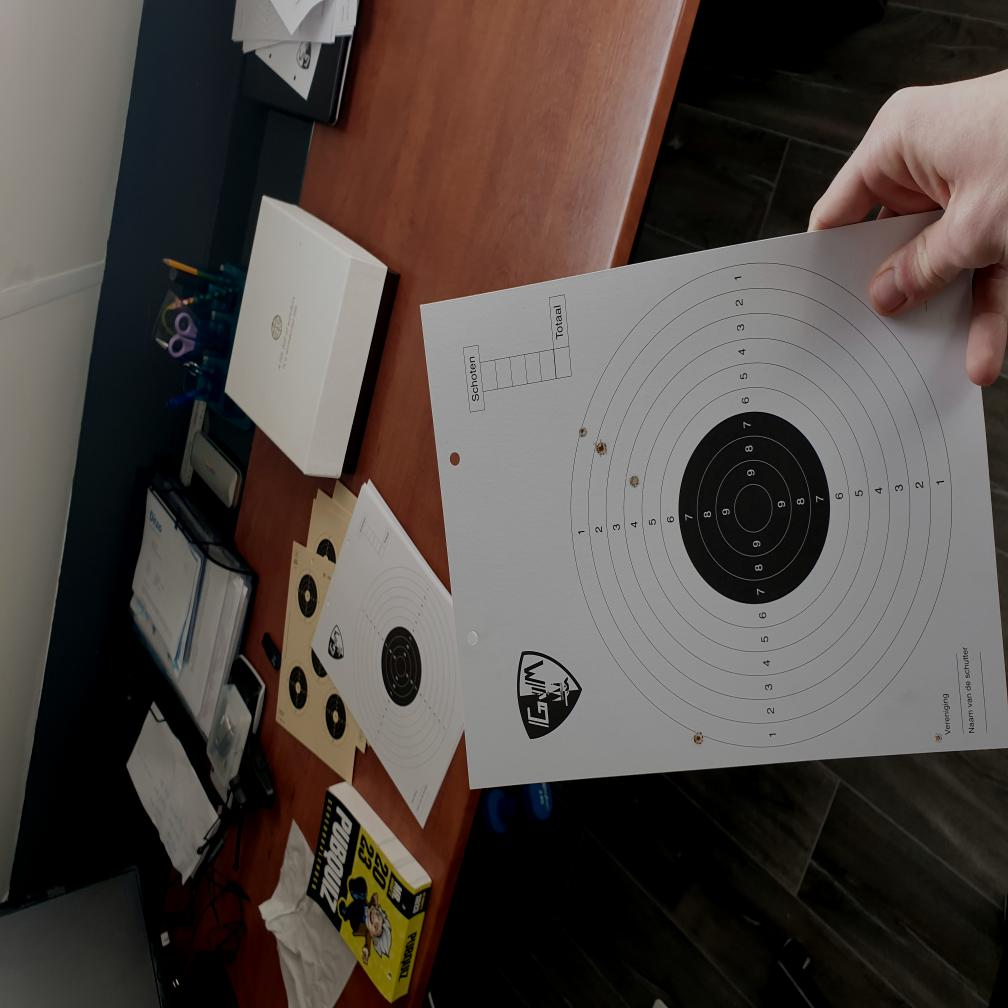0: (932, 731, 944, 744)
1: (692, 730, 704, 746), (579, 426, 588, 438)
2: (595, 440, 607, 456)
4: (628, 473, 640, 490)
Target: (569, 261, 954, 750)
black_contour: (677, 412, 831, 606)
